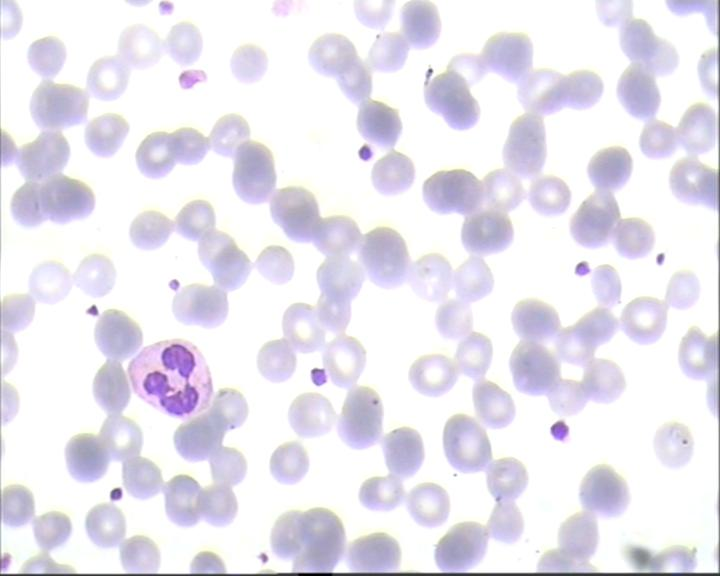neut: (127, 334, 219, 421)
